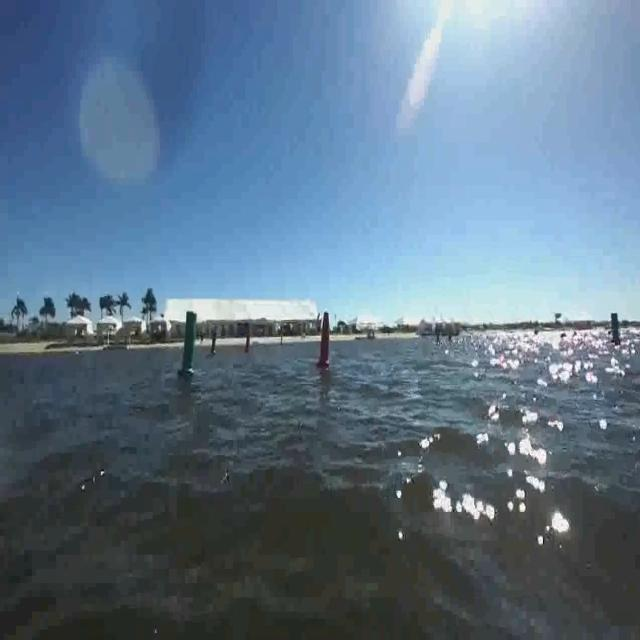green-column-buoy: (177, 310, 198, 378), (609, 311, 625, 347), (209, 327, 220, 358)
red-column-buoy: (316, 311, 334, 370), (242, 330, 250, 355)
